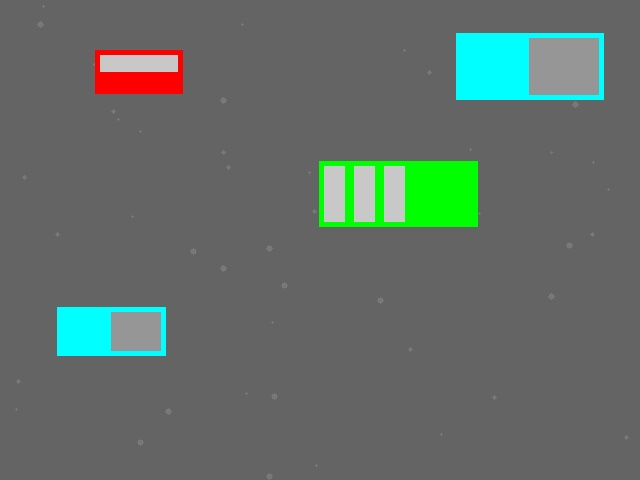bus: (319, 161, 477, 226)
car: (95, 50, 182, 93)
truck: (456, 33, 603, 99), (57, 307, 165, 355)
